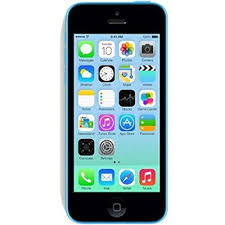iphone: (59, 1, 171, 222)
iphone5: (61, 1, 173, 222)
